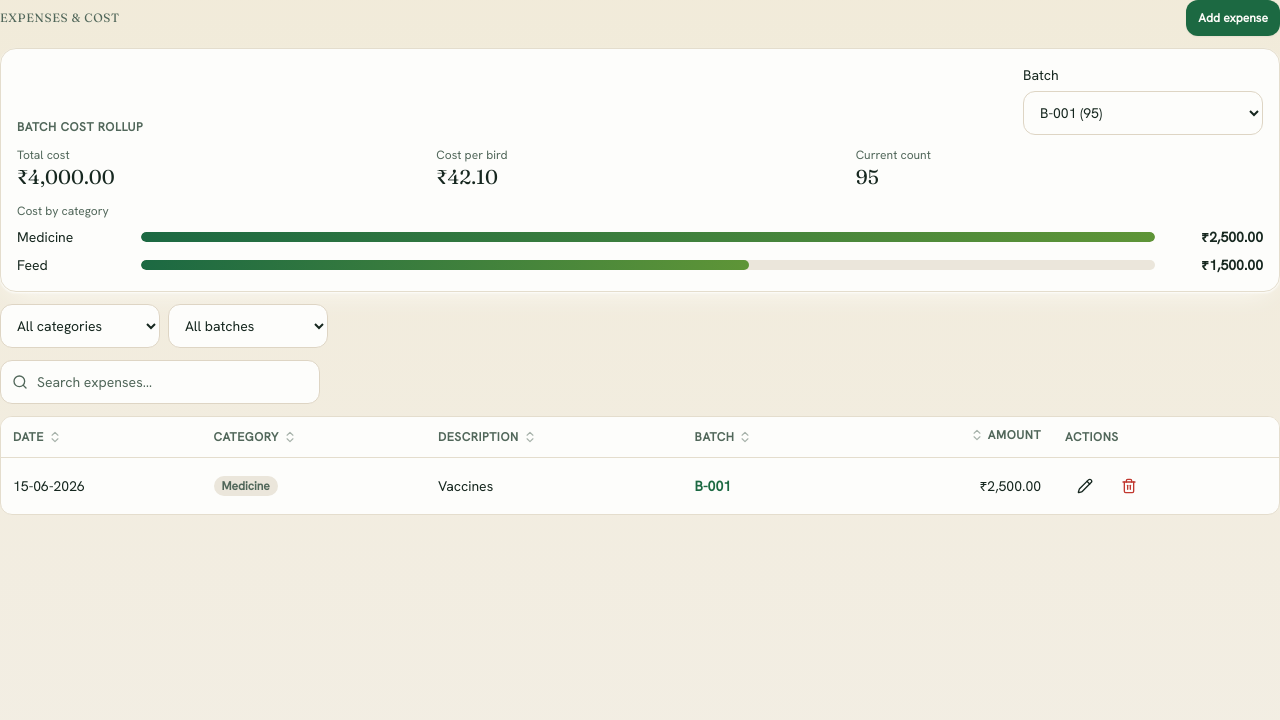
Scenario: ExpensesPanel edit/delete (slice 11.9) › edits an expense through the prefilled dialog (PATCH category/amount/description/date)
Check: the text "Vaccines" is shown, box [426,457,683,514]
# DataTable renders desktop + mobile variants — pick the first instance.
Click the button named "Edit expense" at point(1085, 486), box [1065,468,1105,504]
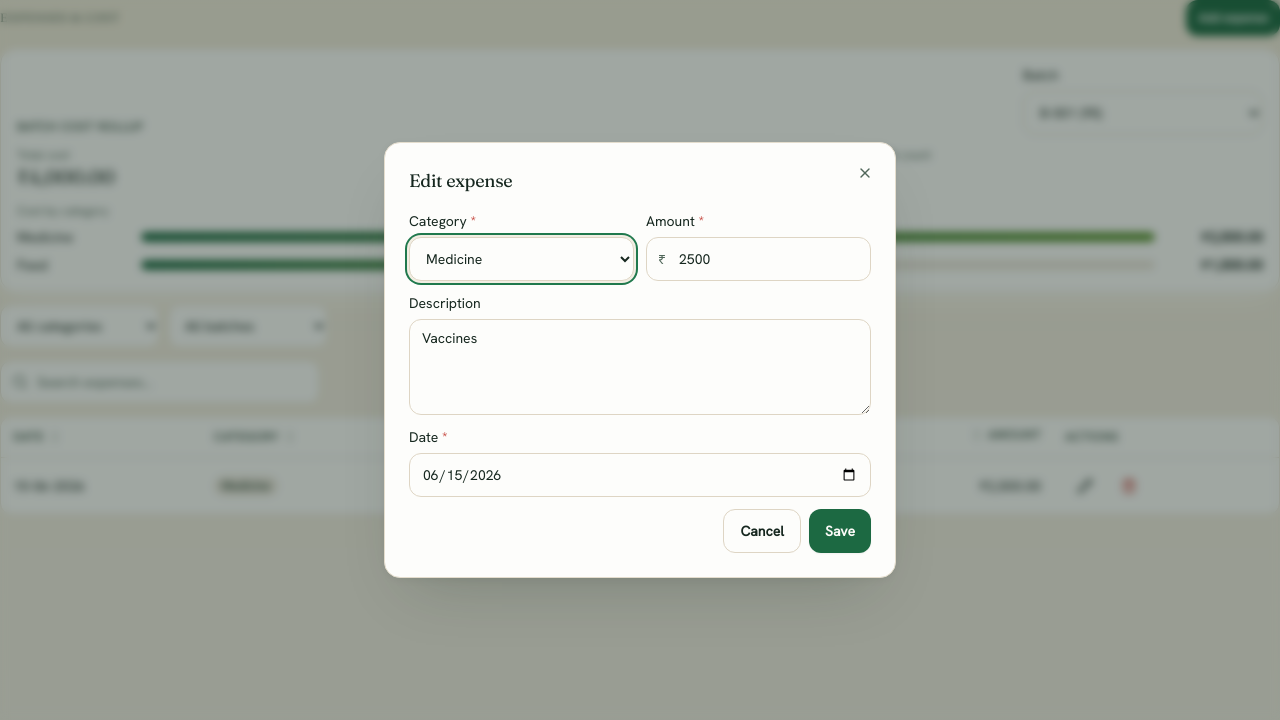
Check: the field labelled "Amount *" holds "2500"
Check: the dropdown labelled "Category *" shows "Medicine", box [409,237,634,281]
Check: the date field labelled "Date *" holds "2026-06-15", box [409,453,871,497]
Replace the text in the field labelled "Amount *" with "3000" at point(758, 259), box [646,237,871,281]
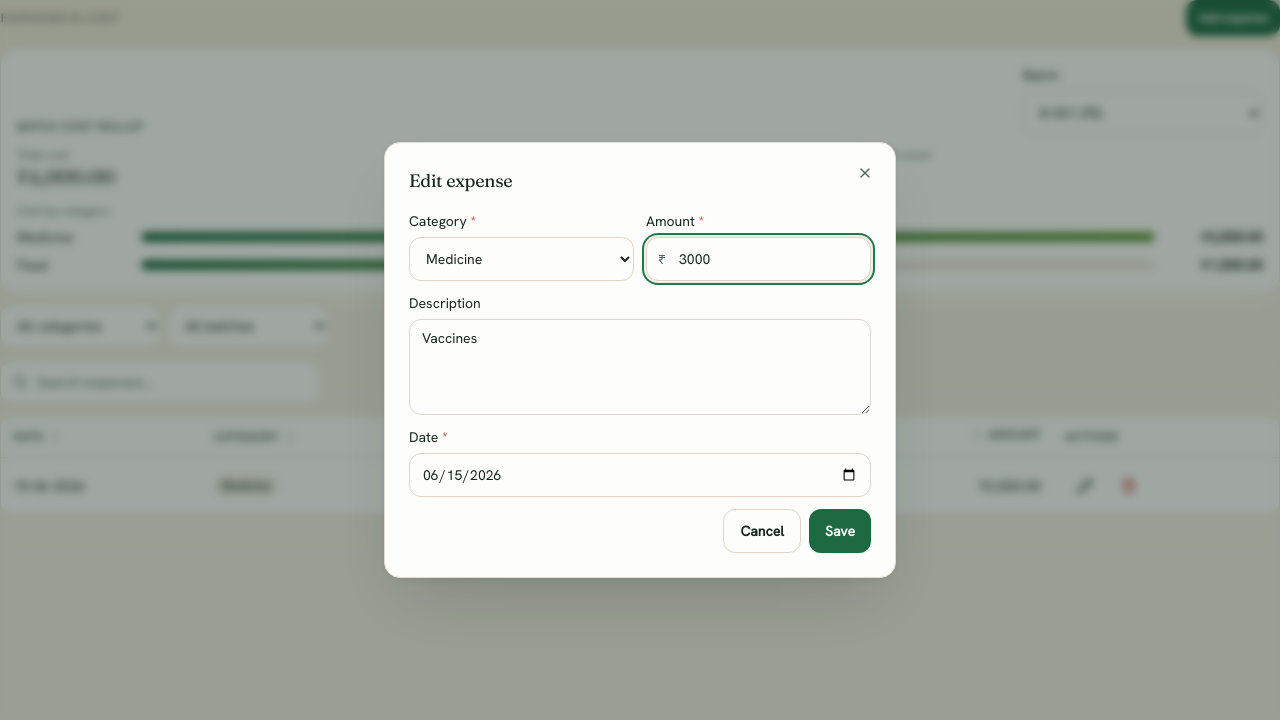
Select "Utilities" in the dropdown labelled "Category *" at point(522, 259), box [409,237,634,281]
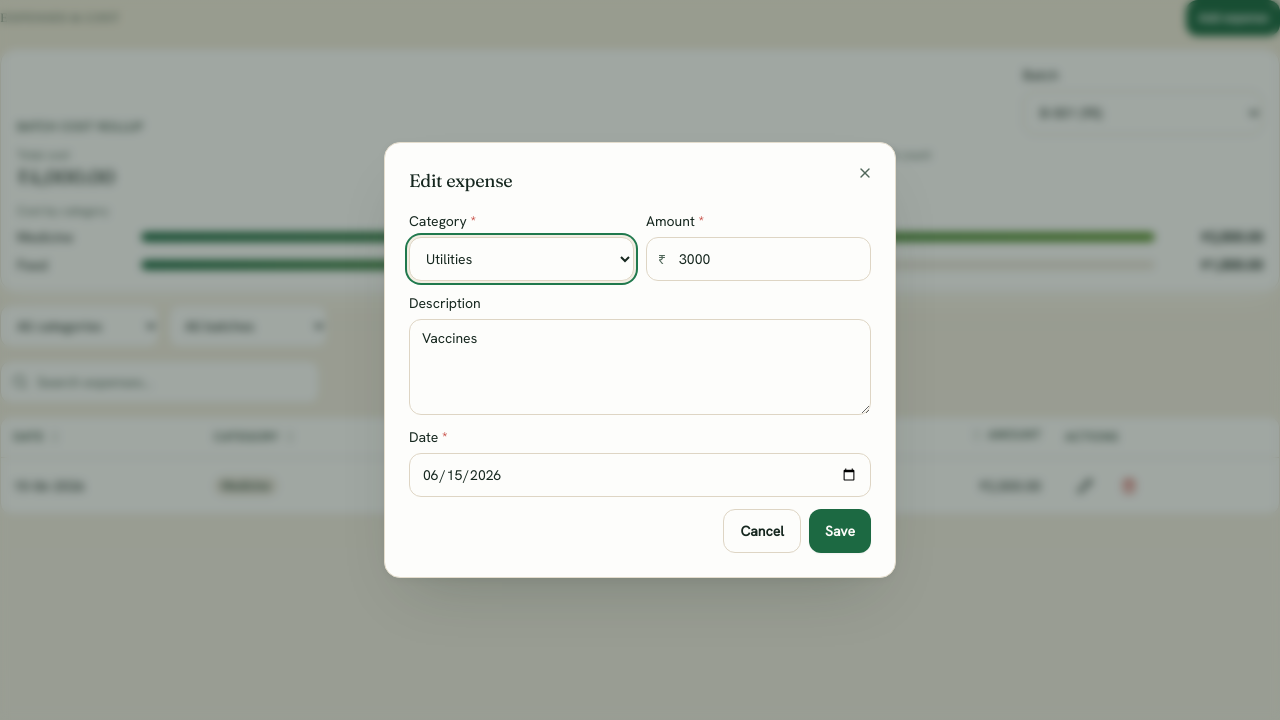
Click the button "Save" at point(840, 531), box [809,509,871,553]
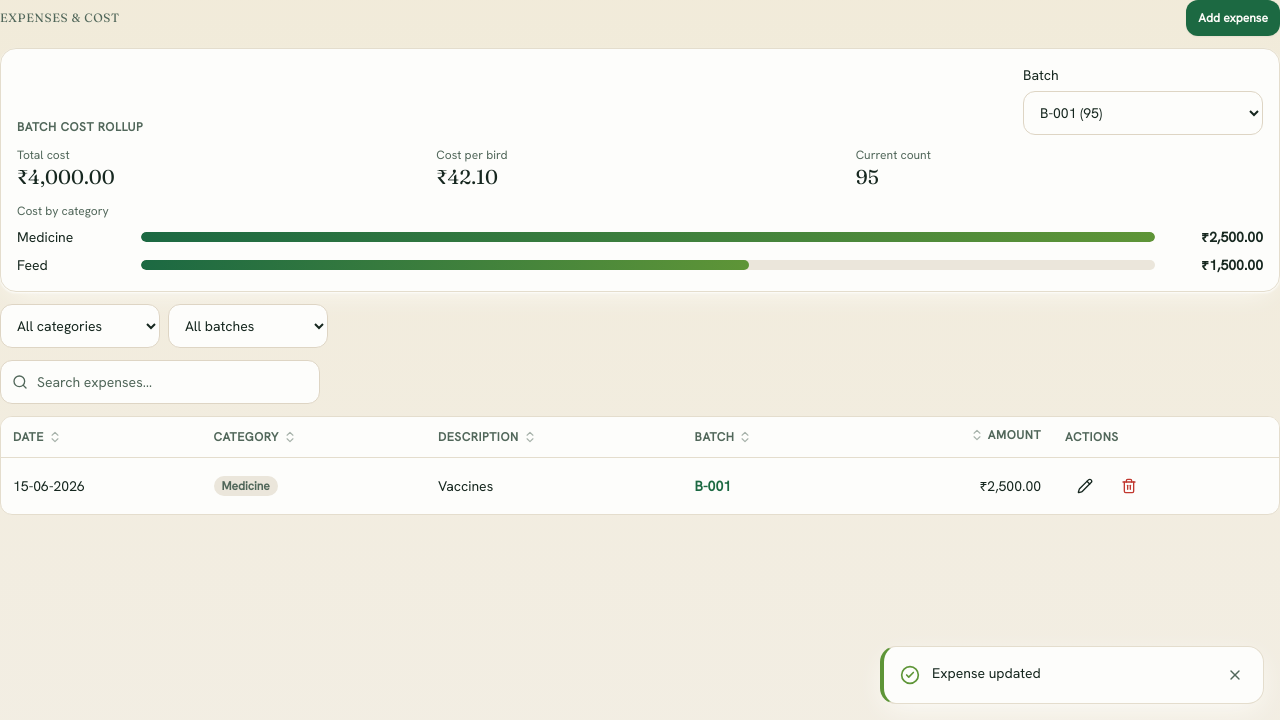
Check: the text "Expense updated" is shown, box [932,664,1041,682]
